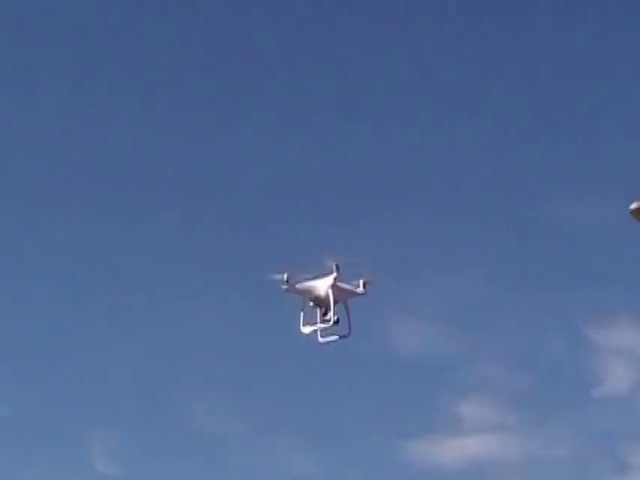drone: (279, 251, 374, 346)
